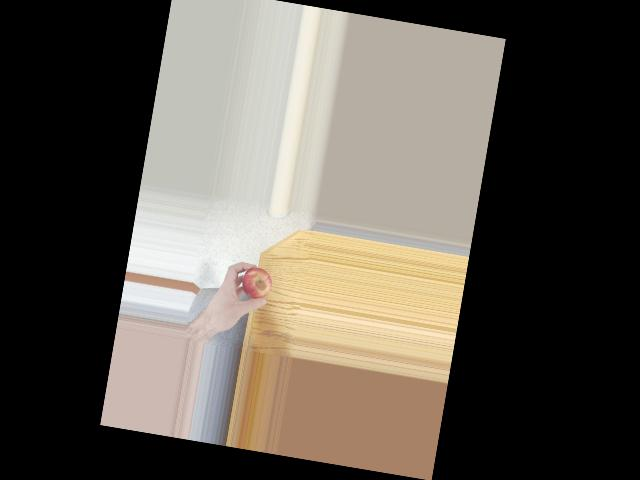apple: (237, 263, 274, 305)
